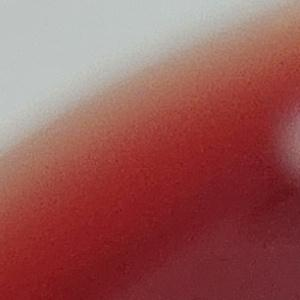colony: (272, 92, 300, 197)
